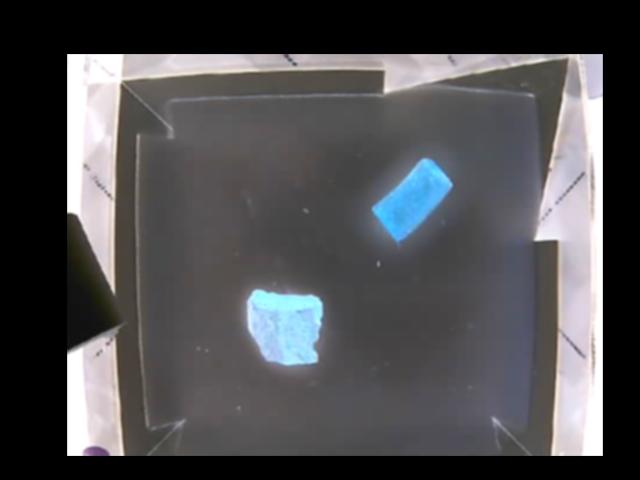Brisk: (244, 288, 323, 364)
Carrot: (370, 157, 452, 243)
